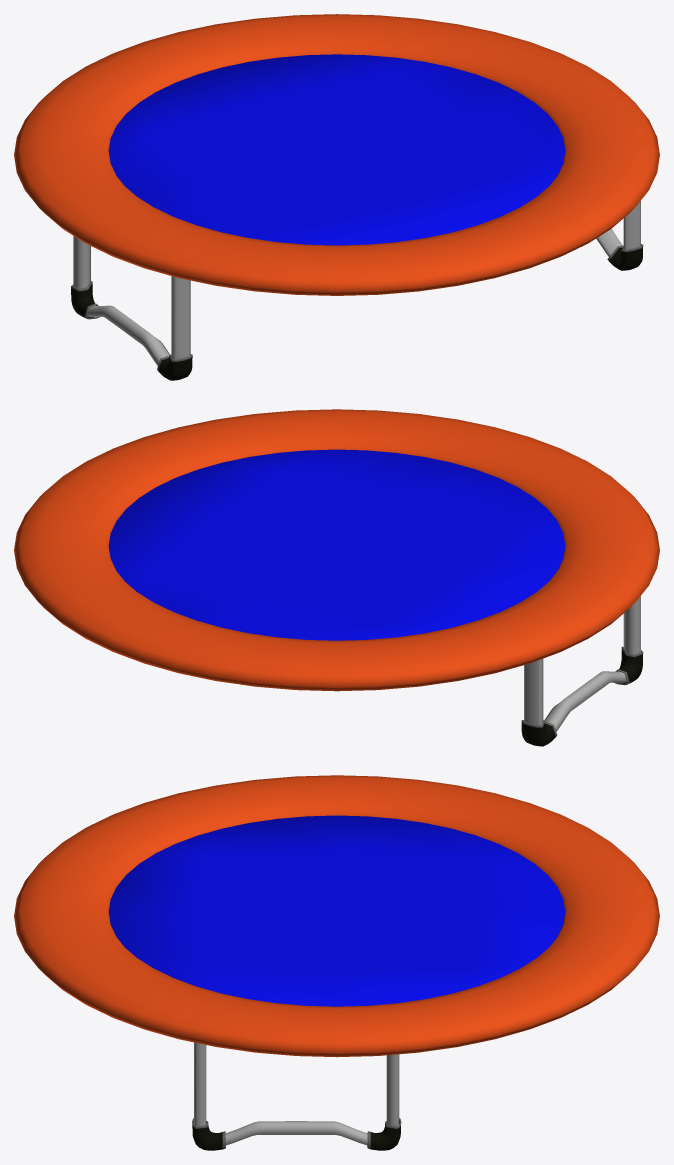
The model's file is orange.glb.
The picture shows the model from 3 angles, top to bottom: view 1: azimuth 30°, elevation 25°; view 2: azimuth 150°, elevation 25°; view 3: azimuth 270°, elevation 25°; orthographic projection.
Parts seen in each view (by area): view 1: Circle.003, BezierCurve.003_Mesh.002, BezierCurve.003_Mesh.003; view 2: Circle.003, BezierCurve.003_Mesh.002, BezierCurve.003_Mesh.003; view 3: Circle.003, BezierCurve.003_Mesh.002, BezierCurve.003_Mesh.003.
Part boxes in pixels (box(x1,y1,x2,y2)): Circle.003: box(14, 14, 659, 295); BezierCurve.003_Mesh.002: box(73, 201, 640, 365); BezierCurve.003_Mesh.003: box(71, 244, 643, 380); Circle.003: box(14, 409, 659, 691); BezierCurve.003_Mesh.002: box(524, 596, 640, 731); BezierCurve.003_Mesh.003: box(521, 646, 643, 746); Circle.003: box(14, 775, 659, 1057); BezierCurve.003_Mesh.002: box(194, 1042, 399, 1145); BezierCurve.003_Mesh.003: box(192, 1118, 401, 1150).
Bounding box in the file's own units: 1.71 × 0.3992 × 1.71.
